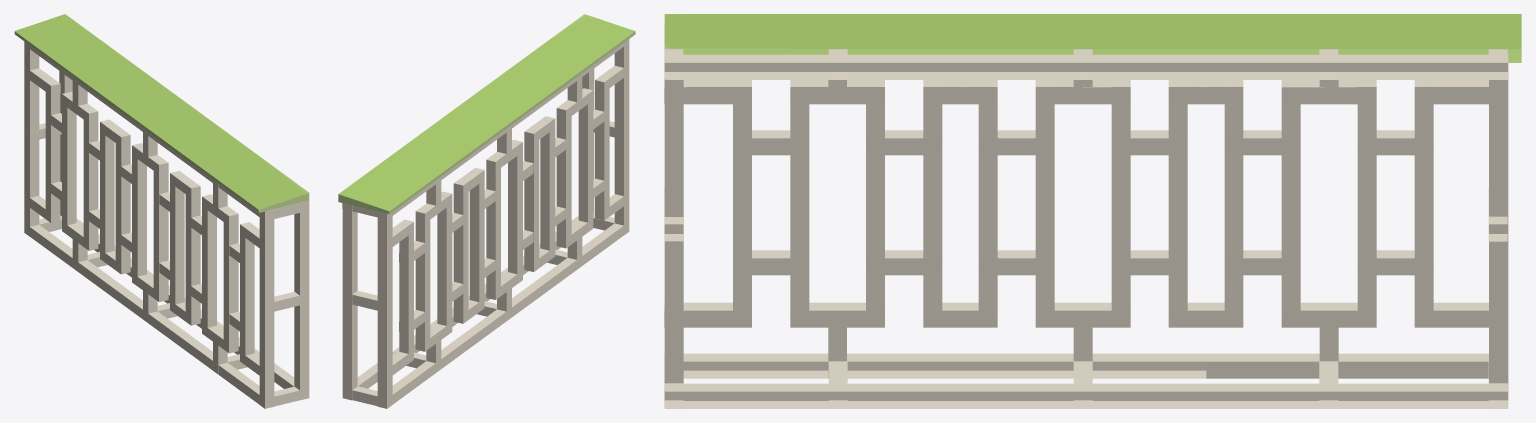
File: Grid_Sandra_2.glb
3 views of the same model, side by side, from view 1: azimuth 30°, elevation 25°; view 2: azimuth 150°, elevation 25°; view 3: azimuth 270°, elevation 25° (orthographic). The views are drawn at different scales.
Parts seen in each view (by area): view 1: Grid_2; view 2: Grid_2; view 3: Grid_2.
Part boxes in pixels (bbox=[...]): Grid_2: bbox=[14, 14, 309, 408]; Grid_2: bbox=[338, 14, 635, 408]; Grid_2: bbox=[664, 14, 1521, 408].
Bounding box in the file's own units: 0.4081 × 1.58 × 3.41.
Materials: 1 (1 with a texture image).
